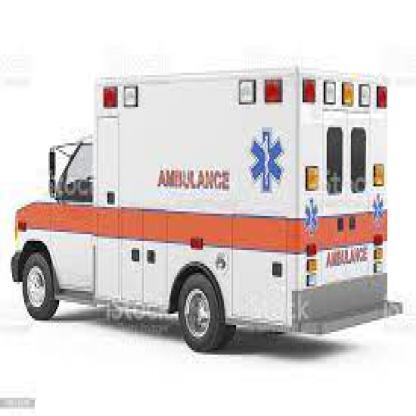van: (3, 66, 408, 355)
